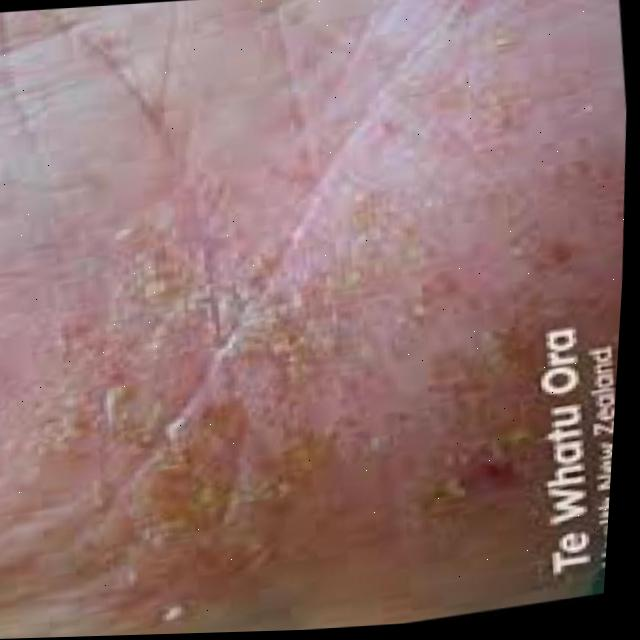Eczema: (29, 0, 640, 638)
